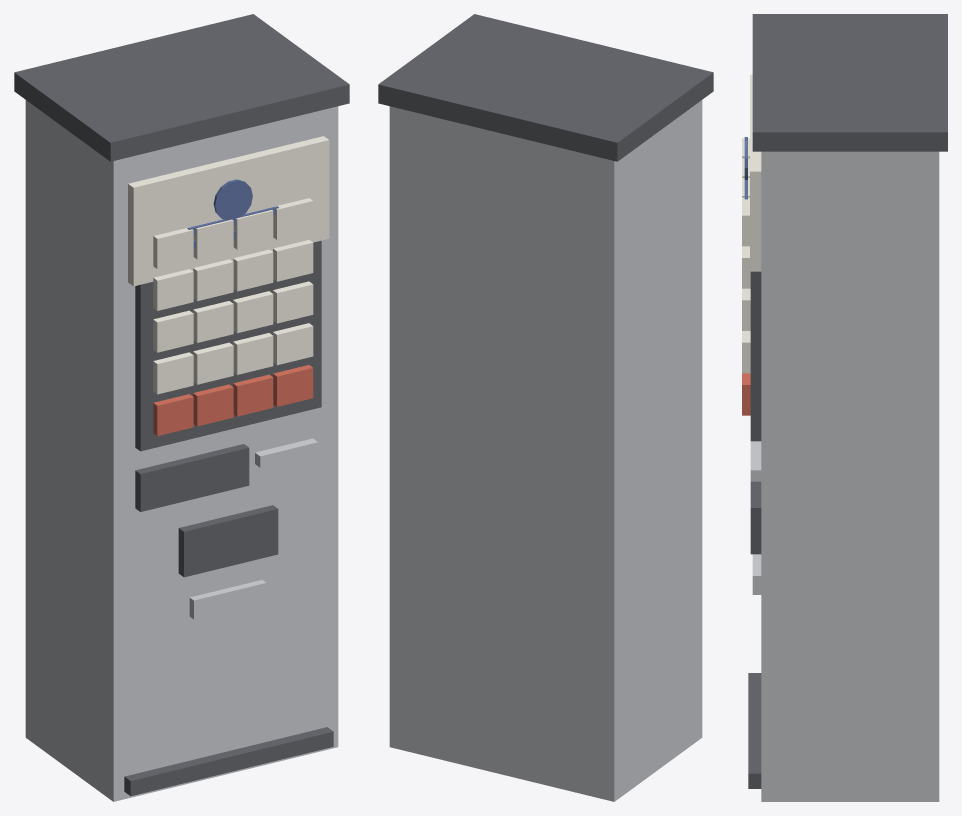
Rendered from meal_ticket_machine.glb.
3 views of the same model, side by side, from view 1: azimuth 30°, elevation 25°; view 2: azimuth 150°, elevation 25°; view 3: azimuth 270°, elevation 25° (orthographic).
Visible parts, largest first — view 1: ticket-vending-machine-steel, ticket-vending-machine-charcoal, ticket-vending-machine-cream, ticket-vending-machine-vermilion, ticket-vending-machine-indigo; view 2: ticket-vending-machine-steel, ticket-vending-machine-charcoal; view 3: ticket-vending-machine-steel, ticket-vending-machine-charcoal, ticket-vending-machine-cream, ticket-vending-machine-vermilion.
Part boxes in pixels (x1,y1,x2,y2): ticket-vending-machine-steel: (25,100,338,801); ticket-vending-machine-charcoal: (14,14,349,796); ticket-vending-machine-cream: (128,136,329,394); ticket-vending-machine-vermilion: (153,365,313,435); ticket-vending-machine-indigo: (187,179,278,248); ticket-vending-machine-steel: (389,100,702,801); ticket-vending-machine-charcoal: (378,14,713,161); ticket-vending-machine-steel: (750,151,939,801); ticket-vending-machine-charcoal: (748,14,947,788); ticket-vending-machine-cream: (742,74,761,373); ticket-vending-machine-vermilion: (742,373,750,415).
Size of the model in its own units: 0.66 by 1.75 by 0.485.
